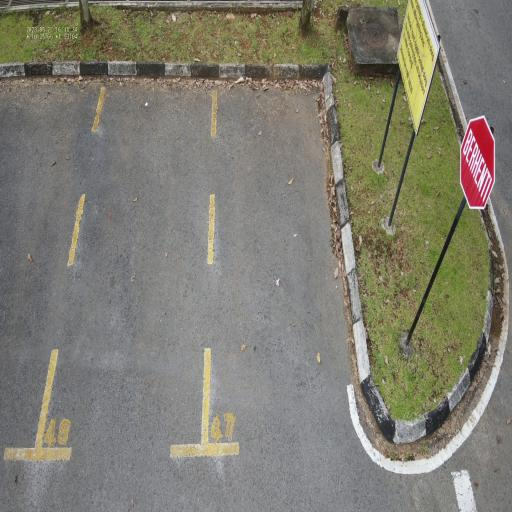Empty: (195, 67, 386, 469), (29, 74, 223, 468)
